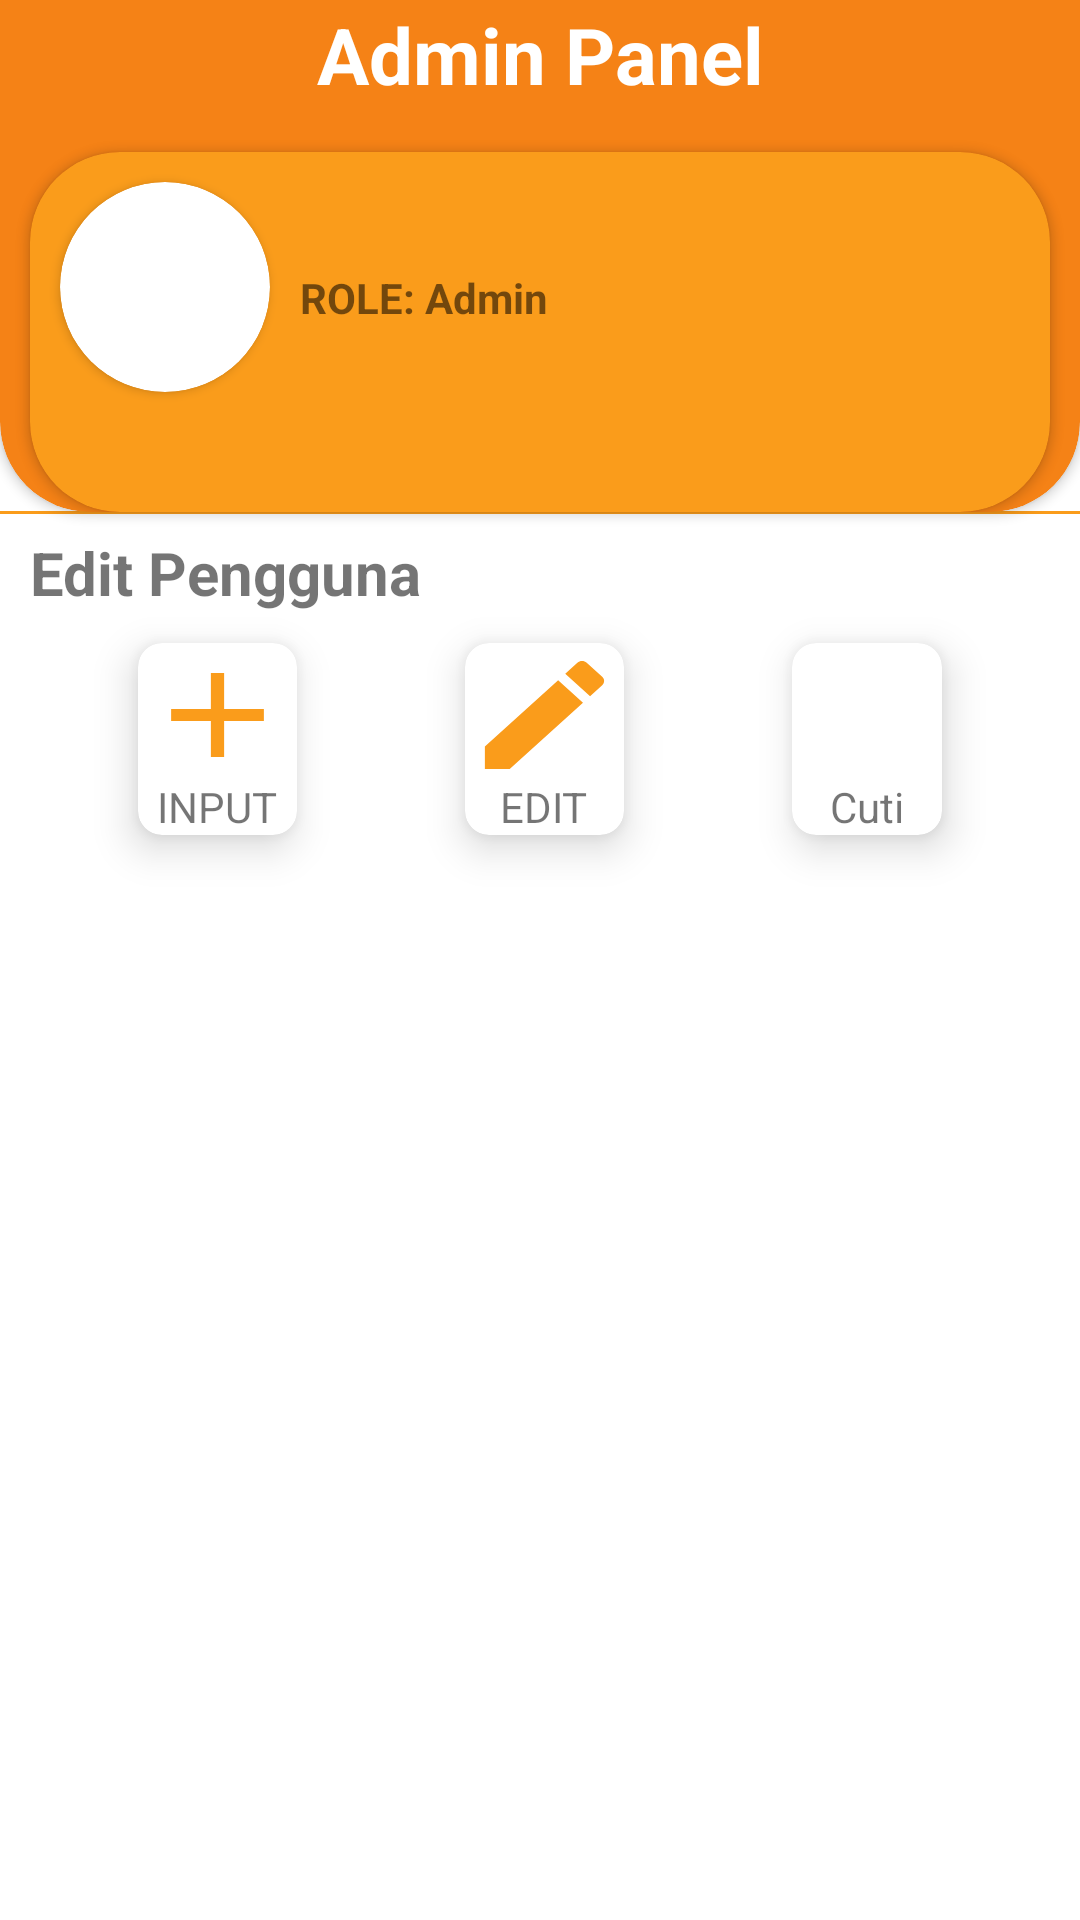

Icon bounding boxes for this 1080 × 1920 phone screenshot, format box=[x1, y1, x2, y2]:
add: box=[171, 673, 264, 757]
